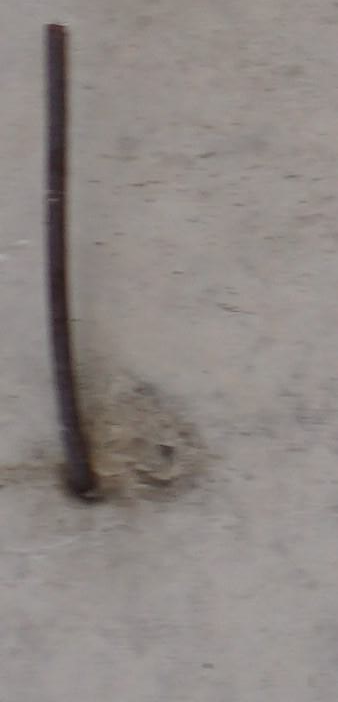Exposed reinforcement: (45, 23, 97, 494)
Spalling: (118, 372, 209, 505)
